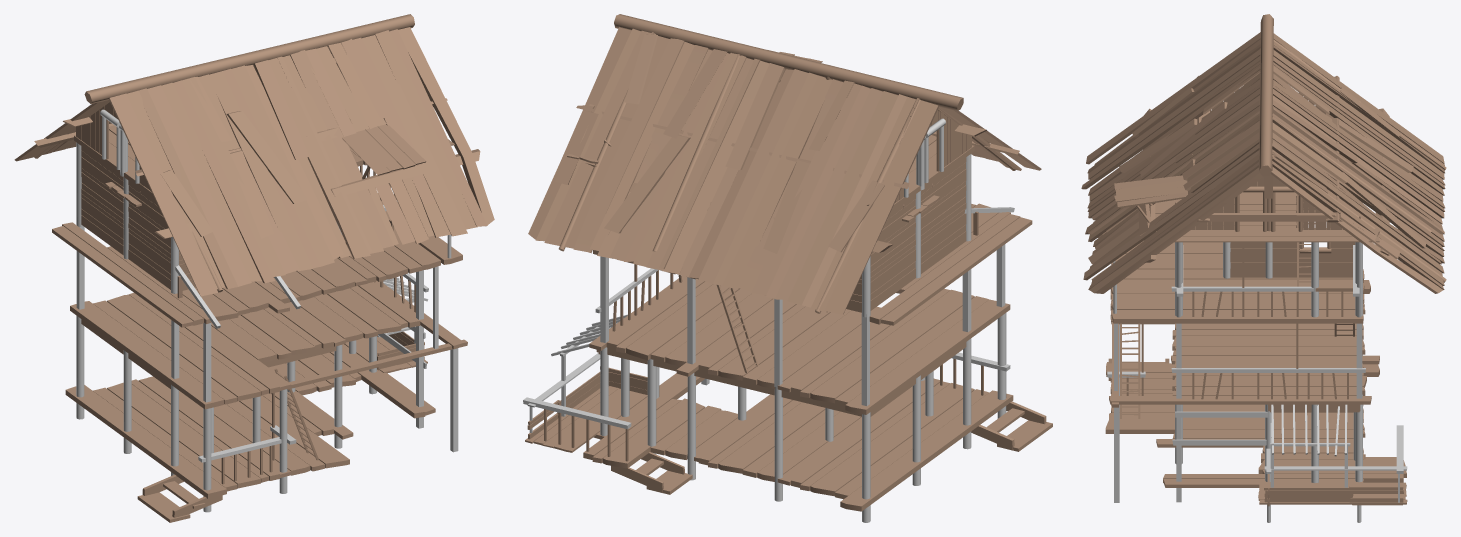
The model's file is -LOD1_hut_003.fbx.
3 views of the same model, side by side, from view 1: azimuth 30°, elevation 25°; view 2: azimuth 150°, elevation 25°; view 3: azimuth 270°, elevation 25° (orthographic). The views are drawn at different scales.
Visible parts, largest first — view 1: Roof, Cylinder.006, Cylinder.001; view 2: Cylinder.006, Roof, Cylinder.001; view 3: Cylinder.006, Roof, Cylinder.001.
Boxes of the visible parts, x1,y1,x2,y2 form: Roof: (14,14,494,296); Cylinder.006: (34,63,467,522); Cylinder.001: (76,109,458,512); Cylinder.006: (525,32,1052,511); Roof: (528,14,1041,314); Cylinder.001: (523,118,1014,522); Cylinder.006: (1091,38,1446,506); Roof: (1081,14,1445,293); Cylinder.001: (1107,88,1407,522).
Size of the model in its own units: 1688 by 1733 by 1622.
